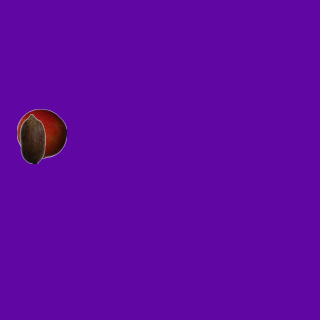Apple Braeburn: (16, 108, 66, 158)
Nut Pecan: (7, 113, 57, 163)
